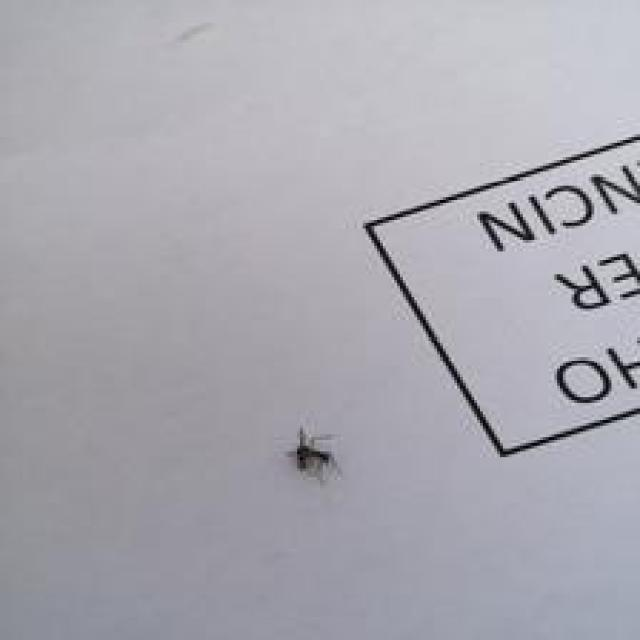Aedes albopictus: (286, 424, 340, 484)
